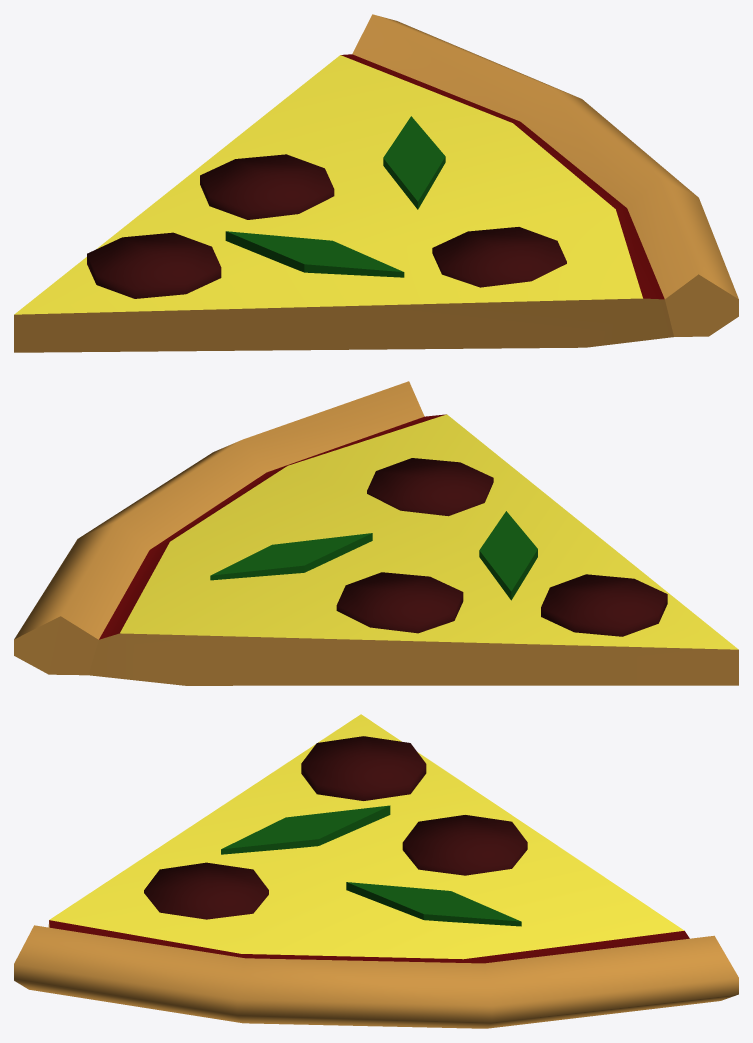
The model's file is Slice002.FBX.
3 renders of one model, top to bottom at view 1: azimuth 30°, elevation 25°; view 2: azimuth 150°, elevation 25°; view 3: azimuth 270°, elevation 25°, orthographic. The views are drawn at different scales.
Visible parts, largest first — view 1: Slice002; view 2: Slice002; view 3: Slice002.
Boxes of the visible parts, x1,y1,x2,y2 form: Slice002: (14,14,738,352); Slice002: (14,381,738,685); Slice002: (14,714,738,1028).
Bounding box in the file's own units: 7.59 × 0.8516 × 7.68.
